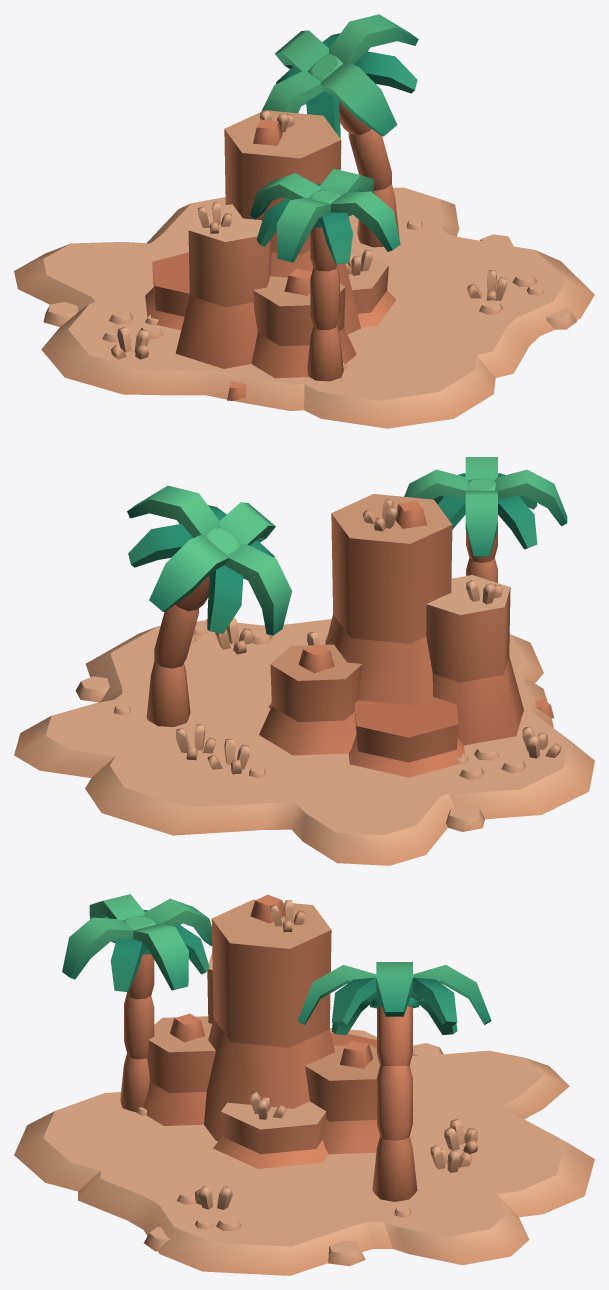
The model's file is island.glb.
The picture shows the model from 3 angles, top to bottom: view 1: azimuth 30°, elevation 25°; view 2: azimuth 150°, elevation 25°; view 3: azimuth 270°, elevation 25°; orthographic projection. The views are drawn at different scales.
Visible parts, largest first — view 1: patch-sand-foliage, rocks-sand-b, patch-sand, palm-detailed-bend, palm-detailed-straight; view 2: rocks-sand-b, patch-sand-foliage, patch-sand, palm-detailed-bend, palm-detailed-straight; view 3: rocks-sand-b, patch-sand, patch-sand-foliage, palm-detailed-bend, palm-detailed-straight.
Boxes of the visible parts, x1,y1,x2,y2 form: patch-sand-foliage: (41, 187, 594, 410); rocks-sand-b: (145, 110, 395, 400); patch-sand: (14, 197, 510, 428); palm-detailed-bend: (261, 14, 418, 247); palm-detailed-straight: (250, 168, 400, 381); rocks-sand-b: (259, 494, 553, 777); patch-sand-foliage: (14, 618, 594, 831); patch-sand: (85, 630, 543, 865); palm-detailed-bend: (127, 485, 291, 726); palm-detailed-straight: (404, 457, 567, 582); rocks-sand-b: (142, 894, 379, 1168); patch-sand: (14, 1050, 594, 1248); patch-sand-foliage: (78, 1028, 529, 1275); palm-detailed-bend: (298, 962, 491, 1201); palm-detailed-straight: (62, 894, 212, 1111).
Bounding box in the file's own units: 2 × 0.9051 × 2.
Materials: 1 (1 with a texture image).
